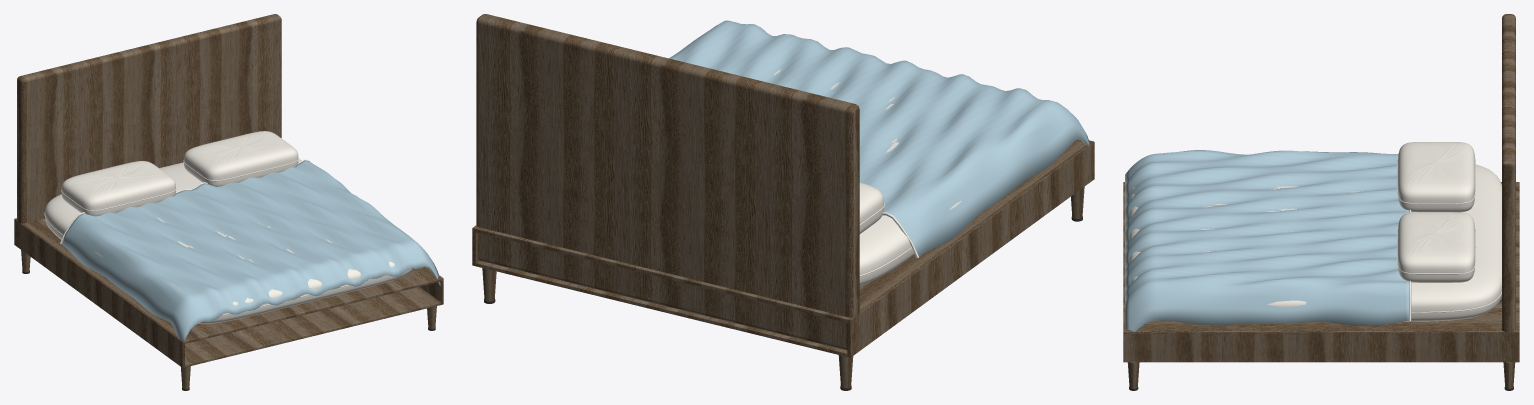
File: detail-bed-oak.glb
The picture shows the model from 3 angles, left to right: view 1: azimuth 30°, elevation 25°; view 2: azimuth 150°, elevation 25°; view 3: azimuth 270°, elevation 25°; orthographic projection. The views are drawn at different scales.
Visible parts, largest first — view 1: 真实起伏被面, 床头板, 底板, 左侧板, 顶板, 鼓起枕头.001, 鼓起枕头, 包边床垫; view 2: 床头板, 真实起伏被面, 左侧板, 顶板, 包边床垫, 底板, 鼓起枕头; view 3: 真实起伏被面, 右侧板, 包边床垫, 鼓起枕头.001, 鼓起枕头, 顶板, 床头板.
Boxes of the visible parts, x1,y1,x2,y2 form: 真实起伏被面: (61, 160, 440, 340); 床头板: (17, 14, 281, 223); 底板: (185, 286, 441, 367); 左侧板: (14, 218, 184, 367); 顶板: (24, 218, 443, 343); 鼓起枕头.001: (184, 131, 298, 186); 鼓起枕头: (61, 161, 175, 216); 包边床垫: (45, 159, 413, 323); 床头板: (476, 14, 859, 350); 真实起伏被面: (669, 20, 1089, 257); 左侧板: (847, 141, 1094, 357); 顶板: (473, 139, 1090, 322); 包边床垫: (773, 69, 961, 285); 底板: (476, 260, 847, 356); 鼓起枕头: (859, 182, 884, 233); 真实起伏被面: (1125, 150, 1409, 331); 右侧板: (1123, 330, 1519, 362); 包边床垫: (1129, 164, 1501, 321); 鼓起枕头.001: (1398, 212, 1475, 282); 鼓起枕头: (1398, 142, 1475, 212); 顶板: (1123, 182, 1519, 334); 床头板: (1502, 14, 1515, 356).
Size of the model in its own units: 1.89 by 1.35 by 2.1.
Materials: 4 (1 with a texture image).
